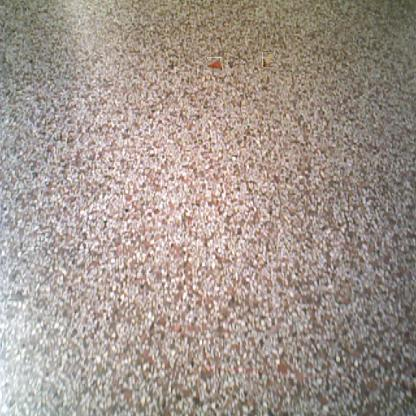dirty: (262, 52, 276, 67), (206, 57, 222, 70)
